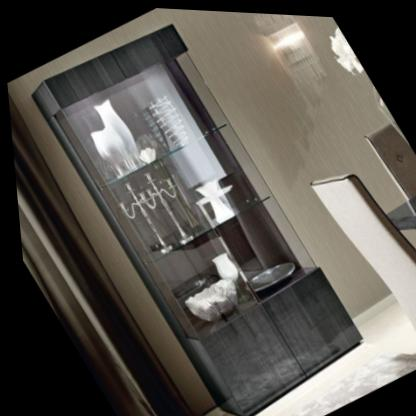Cupboard: (18, 8, 372, 416)
